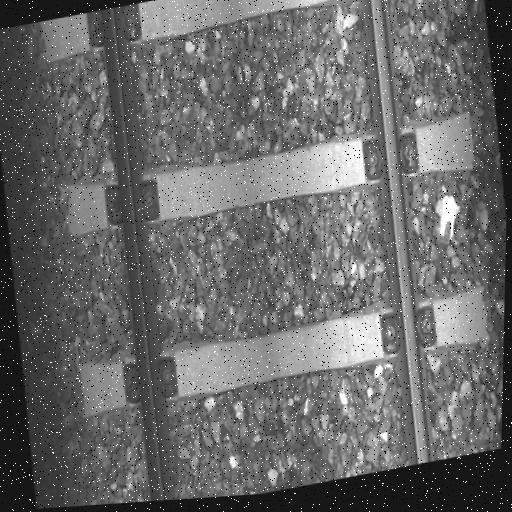sleeper: (77, 285, 491, 420), (62, 110, 477, 244), (40, 0, 456, 56)
